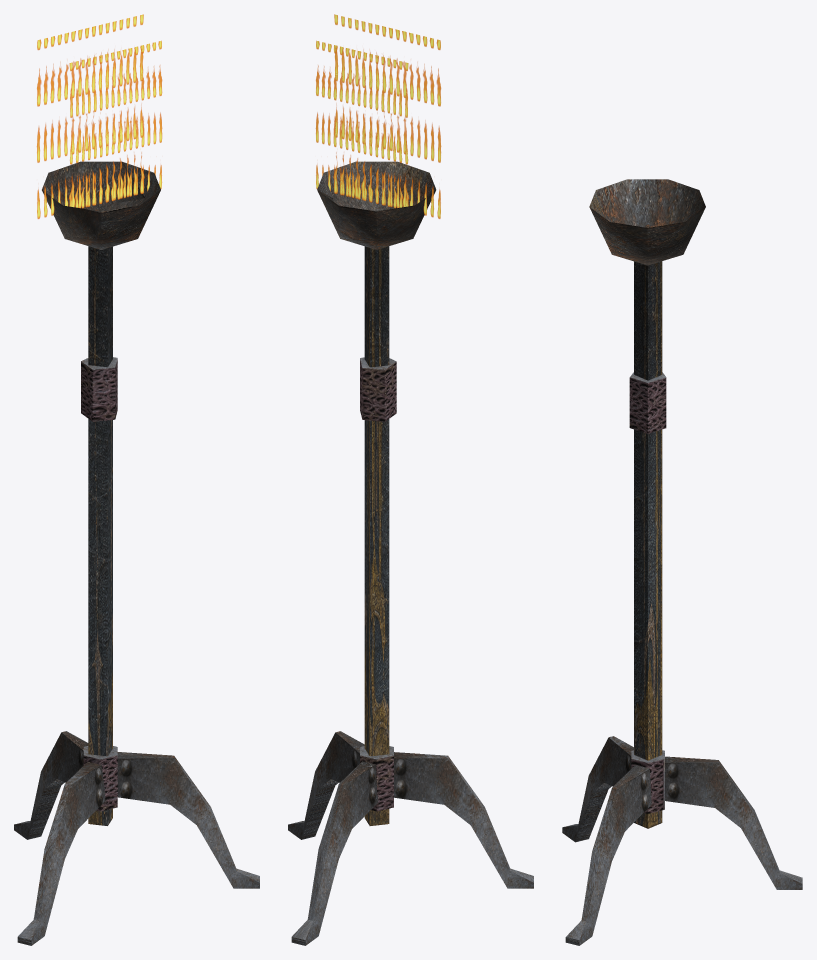
File: mm9_deco_brazier.glb
The picture shows the model from 3 angles, left to right: view 1: azimuth 30°, elevation 25°; view 2: azimuth 150°, elevation 25°; view 3: azimuth 270°, elevation 25°; orthographic projection. The views are drawn at different scales.
Visible parts, largest first — view 1: Brazier; view 2: Brazier; view 3: Brazier.
Boxes of the visible parts, <box> form: Brazier: <box>14,14,259,945</box>; Brazier: <box>288,14,533,945</box>; Brazier: <box>562,179,802,945</box>.
Size of the model in its own units: 0.6664 by 2.25 by 0.5812.
Materials: 3 (3 with a texture image).
